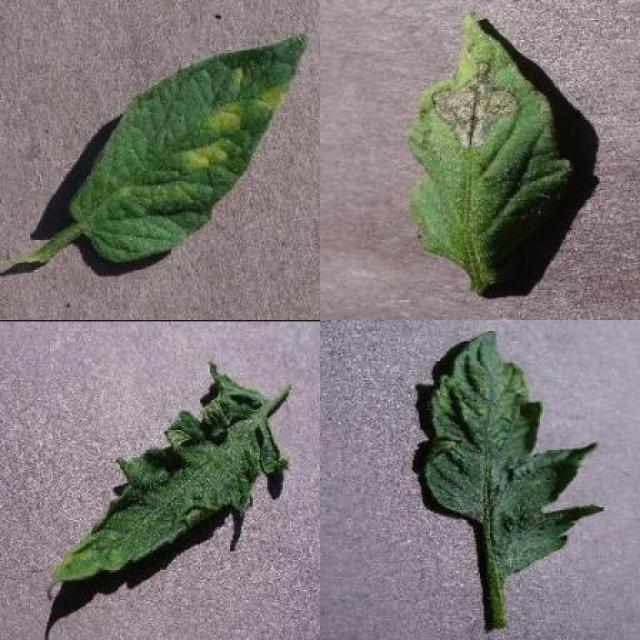Early Blight: (411, 10, 575, 293)
Leaf Mold: (72, 31, 308, 266)
Mosaic Virus: (44, 360, 290, 597), (418, 327, 605, 583)
